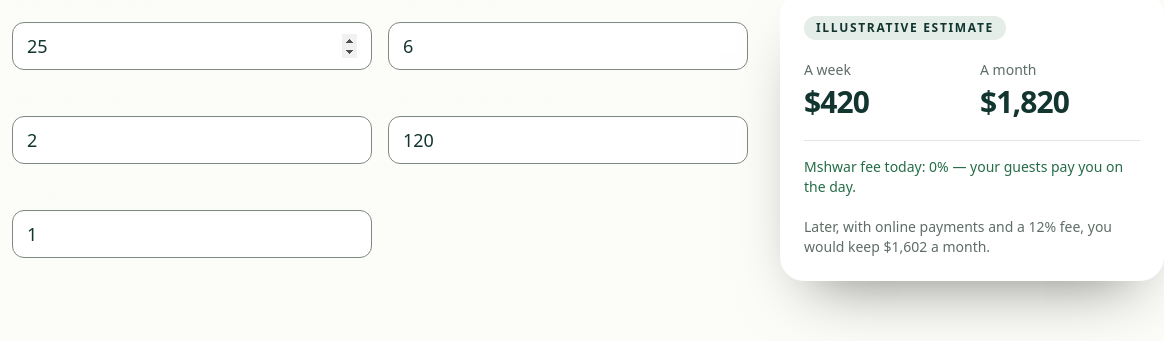
Test: the earnings calculator on Earn with Mshwar › recalculates from the guide's own numbers and says it is an estimate
Expected: the text "Illustrative estimate" is shown, [804,16,1006,40]
Expected: the text with test id "calc-week" reads "$420", [804,81,869,122]
Replace the text in the number field labelled "Tours per week" with "4": [192, 140] box [12,116,372,164]
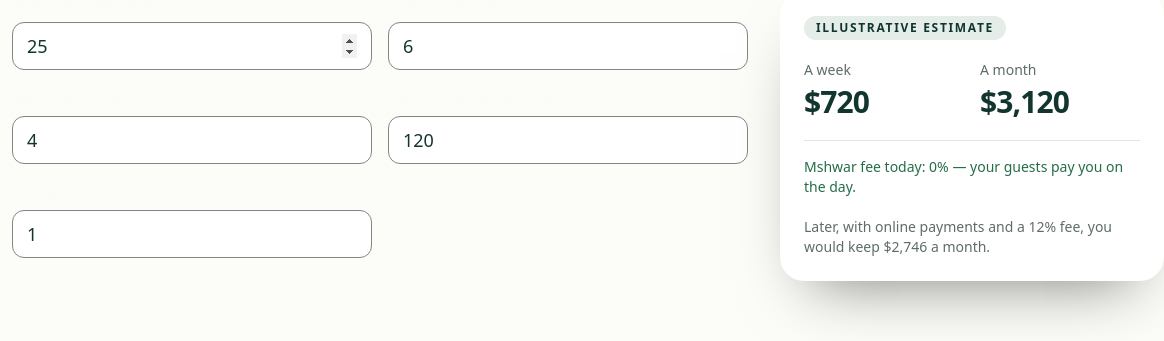
Expected: the text with test id "calc-week" reads "$720", [804,81,869,122]
Expected: the text with test id "calc-month" reads "$3,120", [980,81,1069,122]
Expected: the text "12% fee, you would keep $2,746 a month" is shown, [804,217,1112,256]
